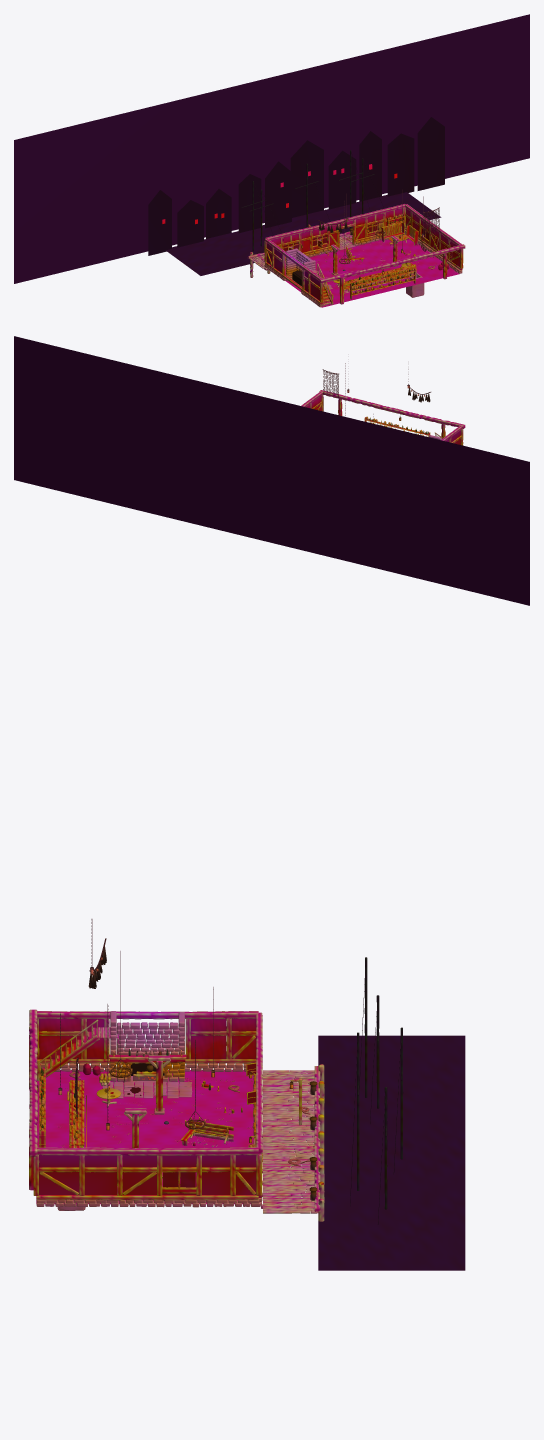
Rendered from taproom_arch.glb.
The picture shows the model from 3 angles, top to bottom: view 1: azimuth 30°, elevation 25°; view 2: azimuth 150°, elevation 25°; view 3: azimuth 270°, elevation 25°; orthographic projection. The views are drawn at different scales.
Visible parts, largest first — view 1: far, water, floor, wall_south, wall_west, wall_east, clutter, FG_beams, furniture, bar, FG_hang, shelves (+3 smaller); view 2: far, FG_beams, FG_hang; view 3: water, wall_west, floor, outside, wall_east, hearth, far, FG_beams, clutter, wall_south, iron, stairs (+4 smaller).
Part boxes in pixels (left/top/right/bottom): far: left=14, top=14, right=529, bottom=283; water: left=166, top=192, right=441, bottom=275; floor: left=285, top=239, right=459, bottom=307; wall_south: left=265, top=204, right=405, bottom=263; wall_west: left=405, top=204, right=463, bottom=273; wall_east: left=264, top=238, right=323, bottom=307; clutter: left=285, top=214, right=454, bottom=294; FG_beams: left=319, top=244, right=465, bottom=304; furniture: left=333, top=222, right=418, bottom=287; bar: left=343, top=266, right=408, bottom=293; FG_hang: left=317, top=207, right=439, bottom=234; shelves: left=350, top=214, right=415, bottom=299; far: left=14, top=336, right=529, bottom=605; FG_beams: left=319, top=390, right=465, bottom=438; FG_hang: left=322, top=369, right=430, bottom=402; water: left=318, top=1035, right=465, bottom=1270; wall_west: left=33, top=1147, right=261, bottom=1207; floor: left=36, top=1070, right=254, bottom=1204; outside: left=261, top=1064, right=324, bottom=1221; wall_east: left=37, top=1011, right=258, bottom=1071; hearth: left=109, top=1011, right=186, bottom=1081; far: left=350, top=957, right=403, bottom=1224; FG_beams: left=29, top=1009, right=37, bottom=1190; clutter: left=39, top=1049, right=253, bottom=1204; wall_south: left=246, top=1012, right=263, bottom=1205; iron: left=37, top=919, right=293, bottom=1147; stairs: left=37, top=1019, right=120, bottom=1080.
Bounding box in the file's own units: 60 × 16.5 × 24.48.
